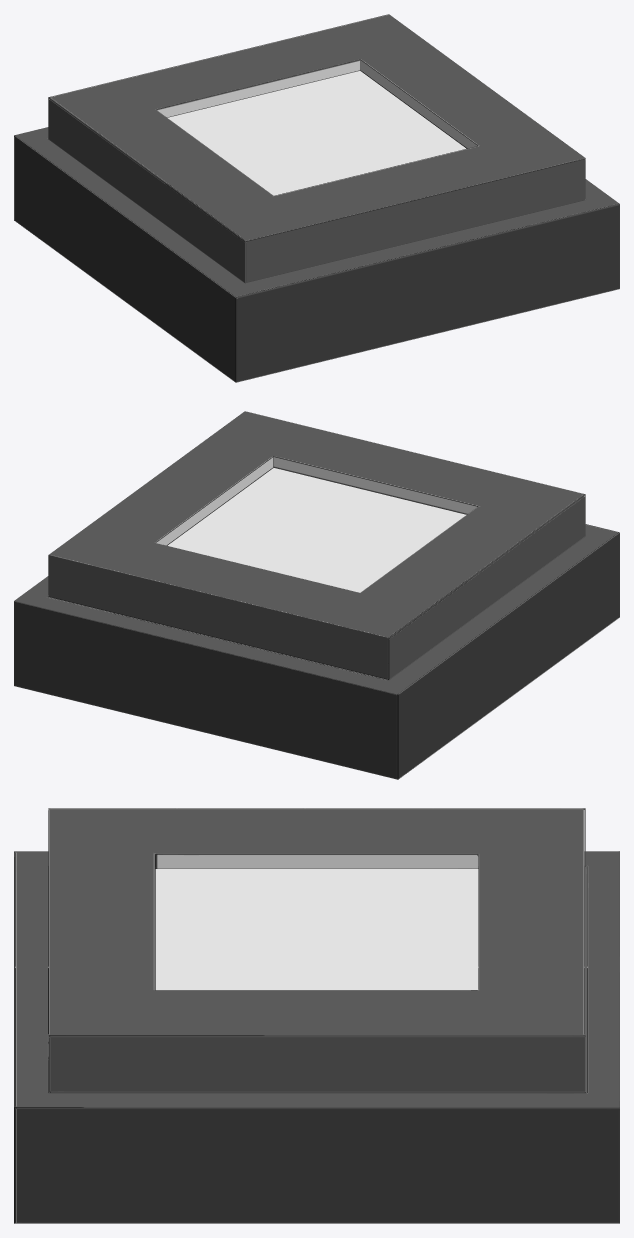
Rendered from luxCapacitor.obj.
3 views of the same model, one above another, from view 1: azimuth 30°, elevation 25°; view 2: azimuth 150°, elevation 25°; view 3: azimuth 270°, elevation 25° (orthographic). The views are drawn at different scales.
Visible parts, largest first — view 1: poplight, poplight001; view 2: poplight, poplight001; view 3: poplight, poplight001.
Part boxes in pixels (box(x1,y1,x2,y2)): poplight: box(14, 14, 619, 382); poplight001: box(167, 71, 466, 195); poplight: box(14, 411, 619, 779); poplight001: box(167, 468, 466, 592); poplight: box(14, 808, 619, 1223); poplight001: box(155, 869, 478, 989).
Size of the model in its own units: 12.9 by 4.08 by 12.9.
